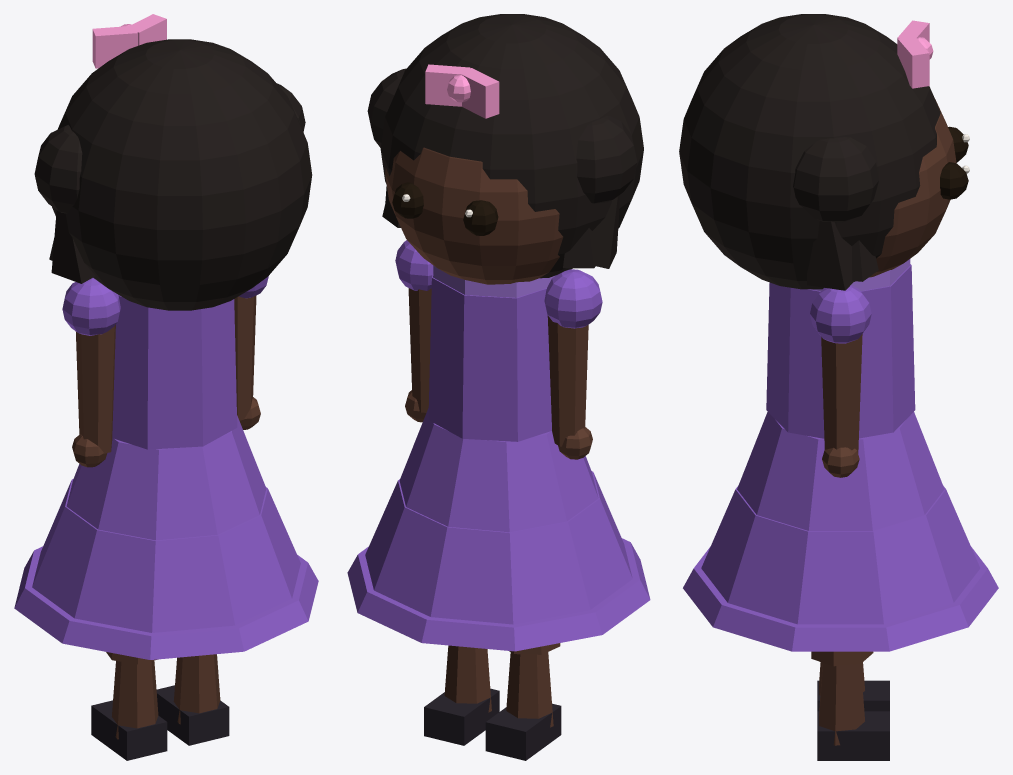
Rendered from emma.glb.
3 views of the same model, side by side, from view 1: azimuth 30°, elevation 25°; view 2: azimuth 150°, elevation 25°; view 3: azimuth 270°, elevation 25° (orthographic). The views are drawn at different scales.
Visible parts, largest first — view 1: hair, tier2, bodice, tier1, ruffle, arm-1, pigtail-1, shin-1, shoe-1, puff-1, shin+1, shoe+1 (+5 smaller); view 2: hair, tier2, bodice, tier1, skull, ruffle, arm-1, pigtail-1, shoe-1, shoe+1, shin-1, puff-1 (+13 smaller); view 3: hair, tier2, tier1, bodice, ruffle, pigtail+1, skull, arm+1, shin+1, shoe+1, puff1, ptip+1 (+7 smaller).
Boxes of the visible parts, x1,y1,x2,y2 form: hair: (52, 39, 312, 310); tier2: (32, 479, 300, 632); bodice: (112, 295, 237, 449); tier1: (66, 415, 266, 540); ruffle: (14, 546, 318, 659); arm-1: (75, 324, 115, 453); pigtail-1: (34, 125, 82, 213); shin-1: (111, 660, 158, 739); shoe-1: (91, 700, 167, 760); puff-1: (62, 278, 120, 335); shin+1: (173, 654, 220, 724); shoe+1: (156, 685, 229, 745); hair: (380, 14, 643, 278); tier2: (365, 471, 632, 624); bodice: (428, 274, 551, 441); tier1: (399, 408, 598, 532); skull: (385, 147, 563, 284); ruffle: (347, 538, 650, 651); arm-1: (547, 315, 588, 446); pigtail-1: (576, 115, 637, 203); shoe-1: (485, 703, 561, 760); shoe+1: (424, 688, 499, 745); shin-1: (506, 652, 553, 727); puff-1: (544, 269, 602, 328); hair: (679, 14, 940, 289); tier2: (701, 485, 980, 624); tier1: (737, 412, 944, 530); bodice: (766, 264, 915, 438); ruffle: (683, 546, 998, 651); pigtail+1: (793, 137, 878, 222); skull: (869, 99, 956, 277); arm+1: (821, 334, 862, 453); shin+1: (819, 663, 864, 745); shoe+1: (817, 711, 889, 760); puff1: (810, 285, 871, 343); ptip+1: (807, 220, 854, 290).
Size of the model in its own units: 0.8274 by 2.16 by 0.88.
